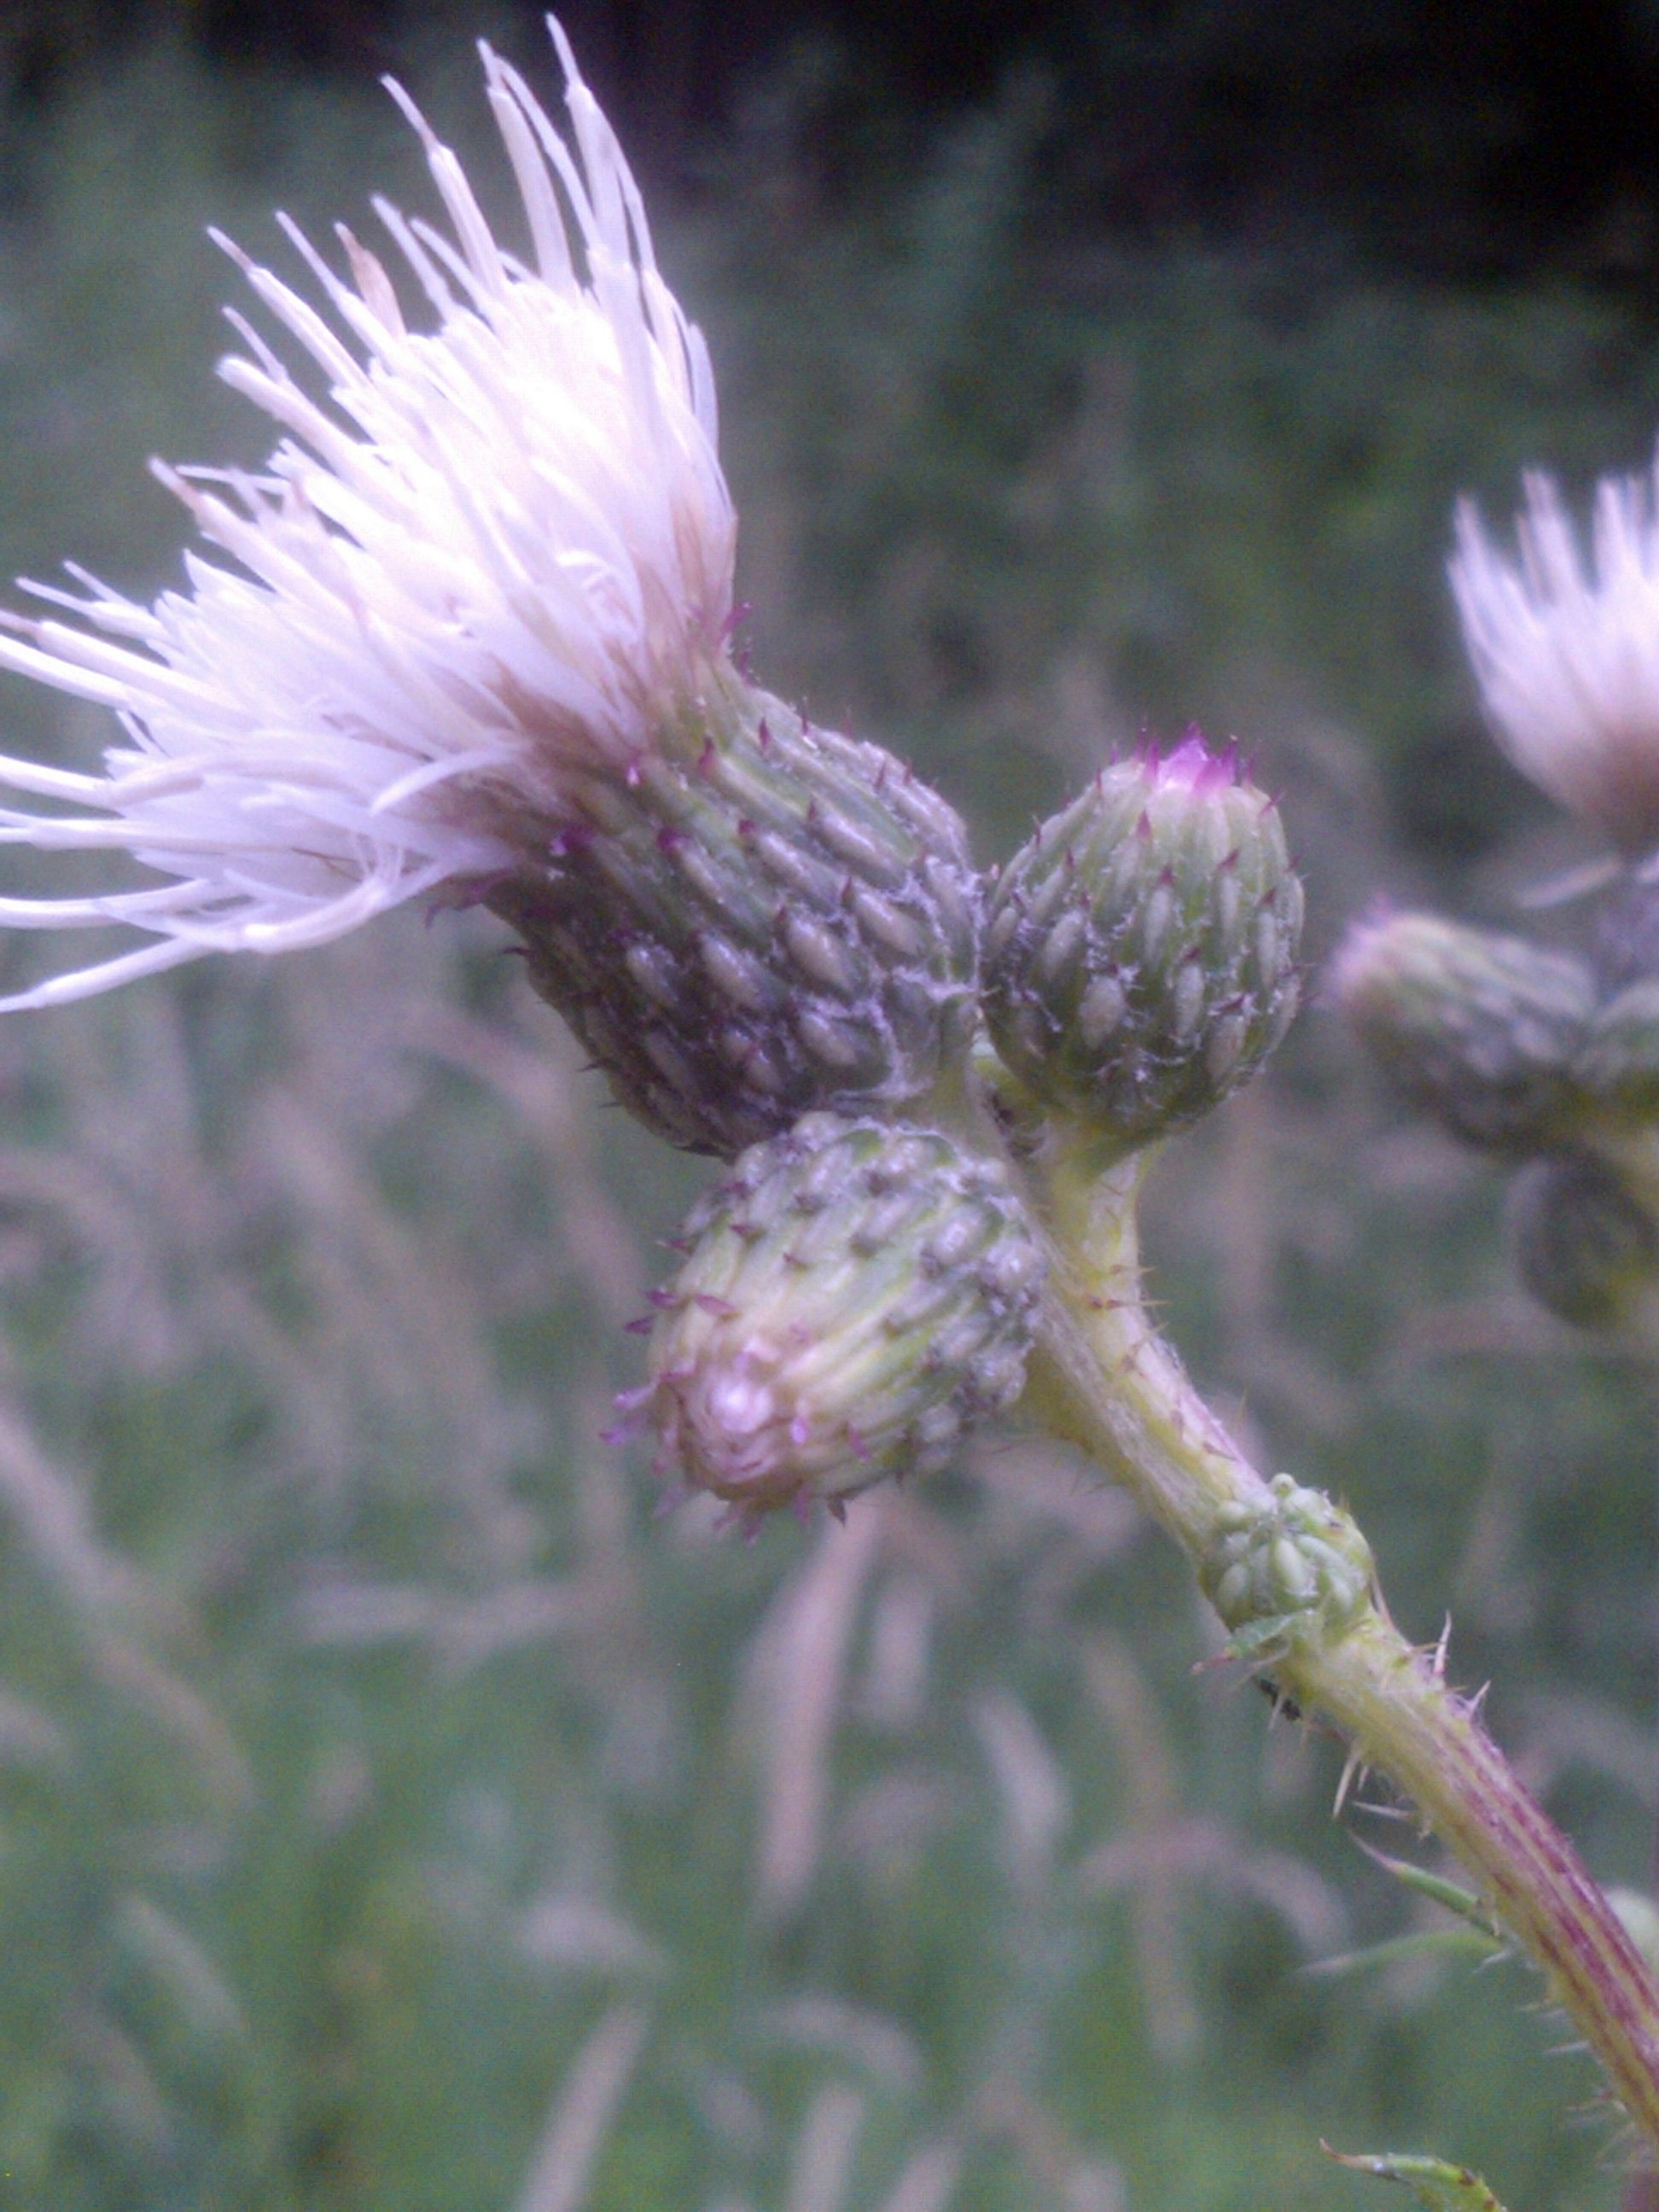thistle: (40, 63, 993, 1151)
